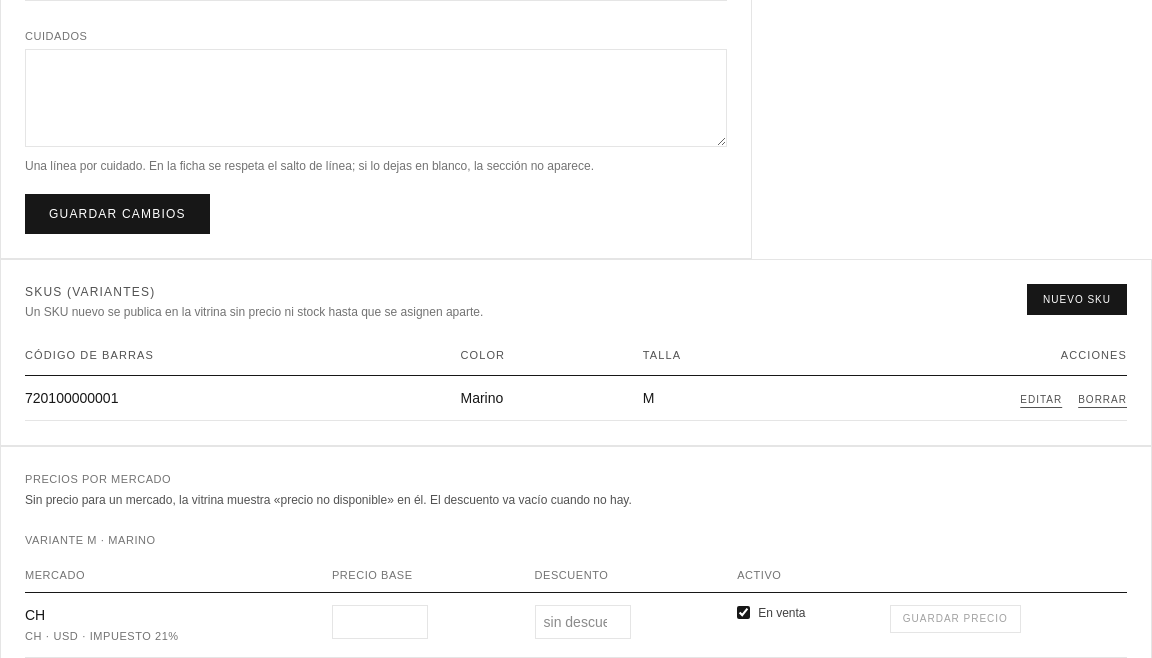
Test case: EdicionProductoPage (admin) › crea un SKU, muestra el toast y recarga el producto
(page scrolled)
Click the button "Nuevo SKU" at (1077, 299), box [1027,284,1127,314]
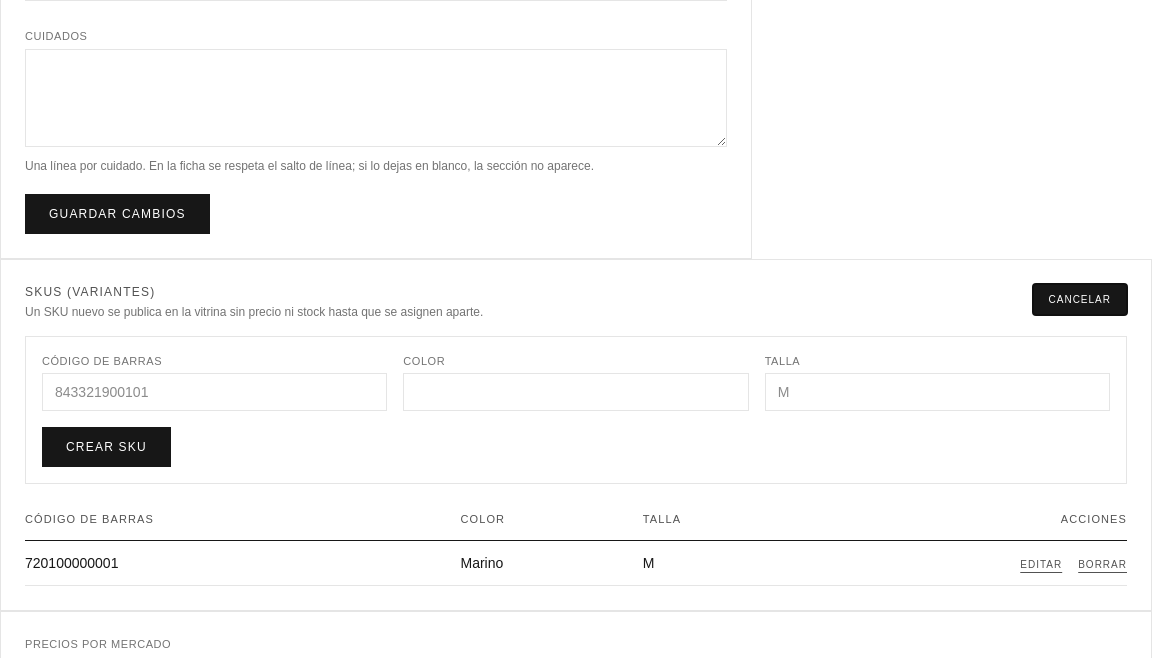
Type "720100000099" into the field labelled "Código de barras" at (215, 392), box [42,373,387,411]
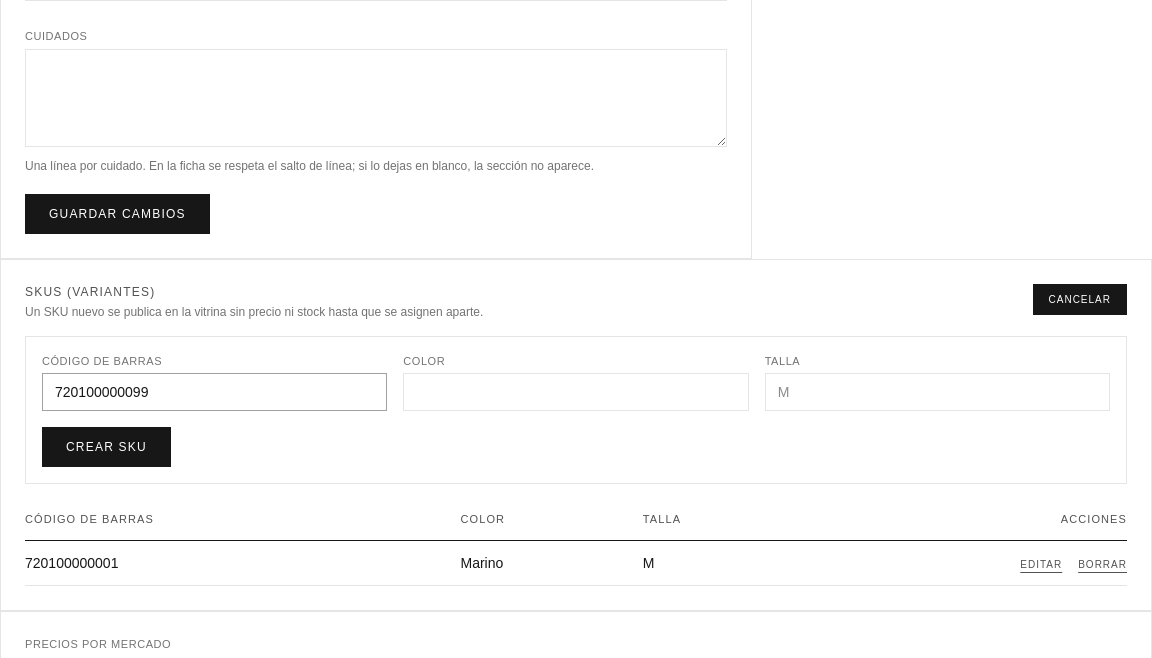
Type "Camel" into the field labelled "Color" at (576, 392), box [403,373,749,411]
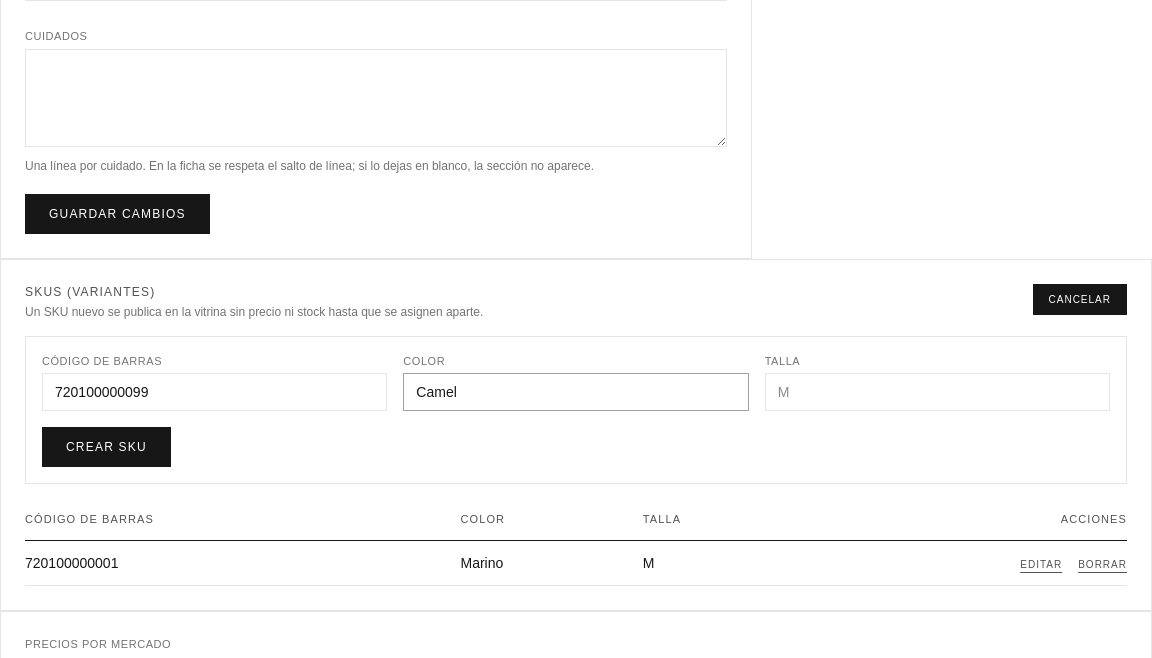
Type "L" into the field labelled "Talla" at (937, 392), box [765,373,1110,411]
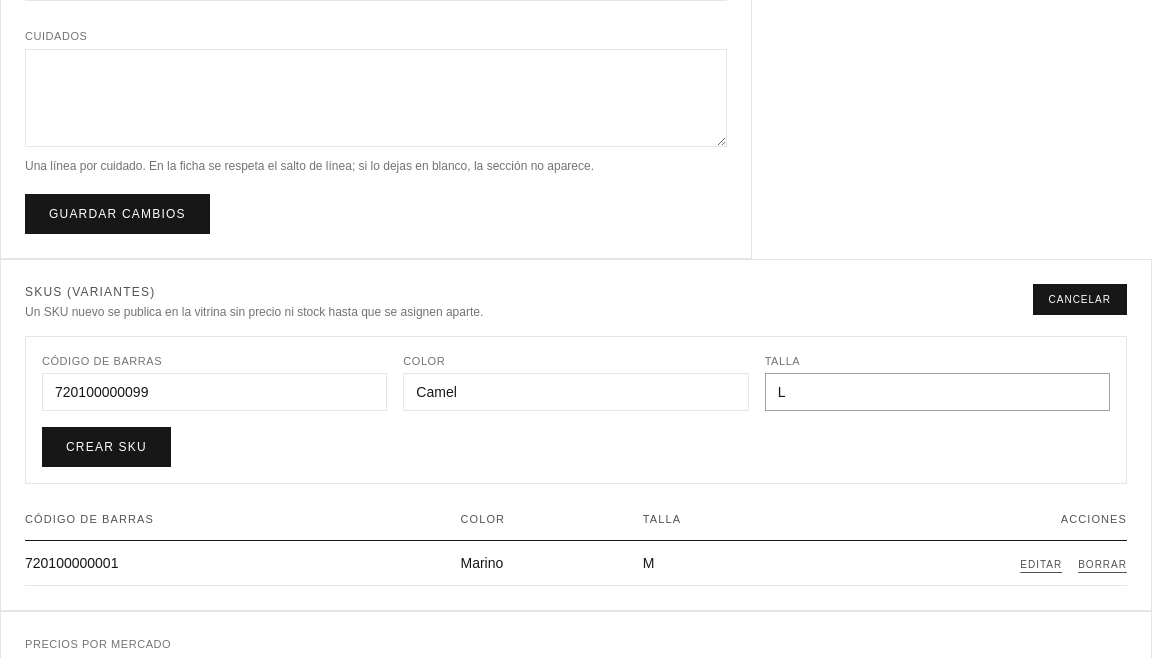
Click the button "Crear SKU" at (106, 447), box [42,427,171,467]
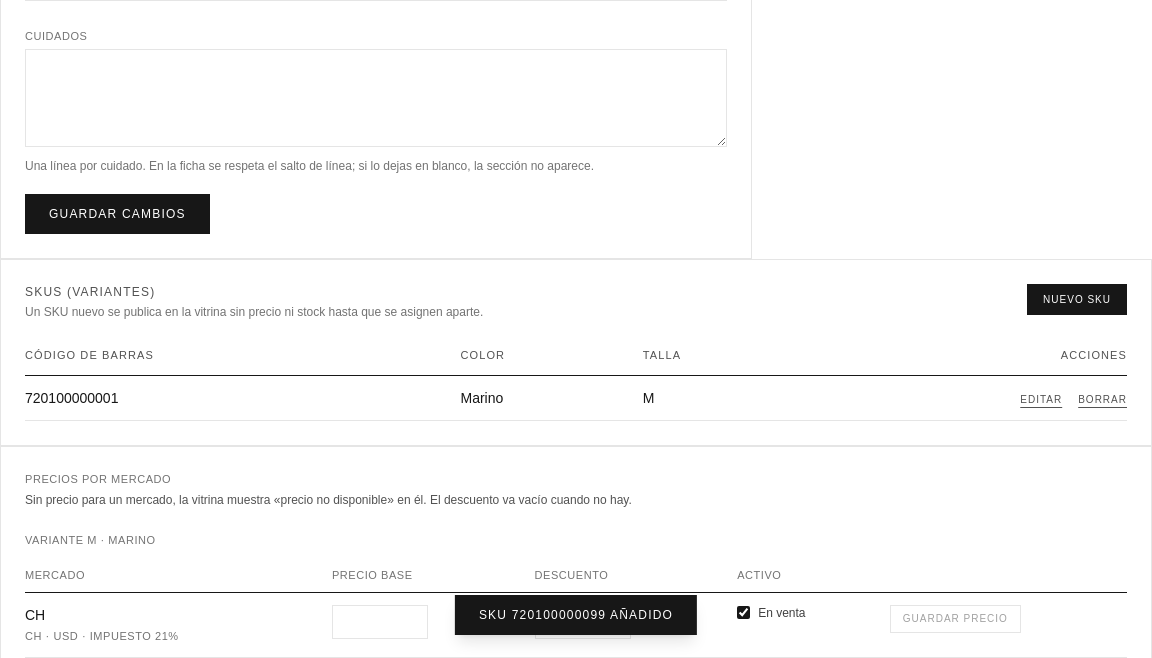
Expected: the text "SKU 720100000099 añadido" is shown, [455,595,697,635]
